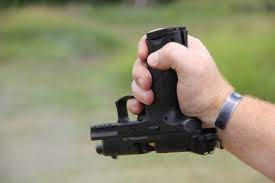gun: (87, 22, 219, 157)
